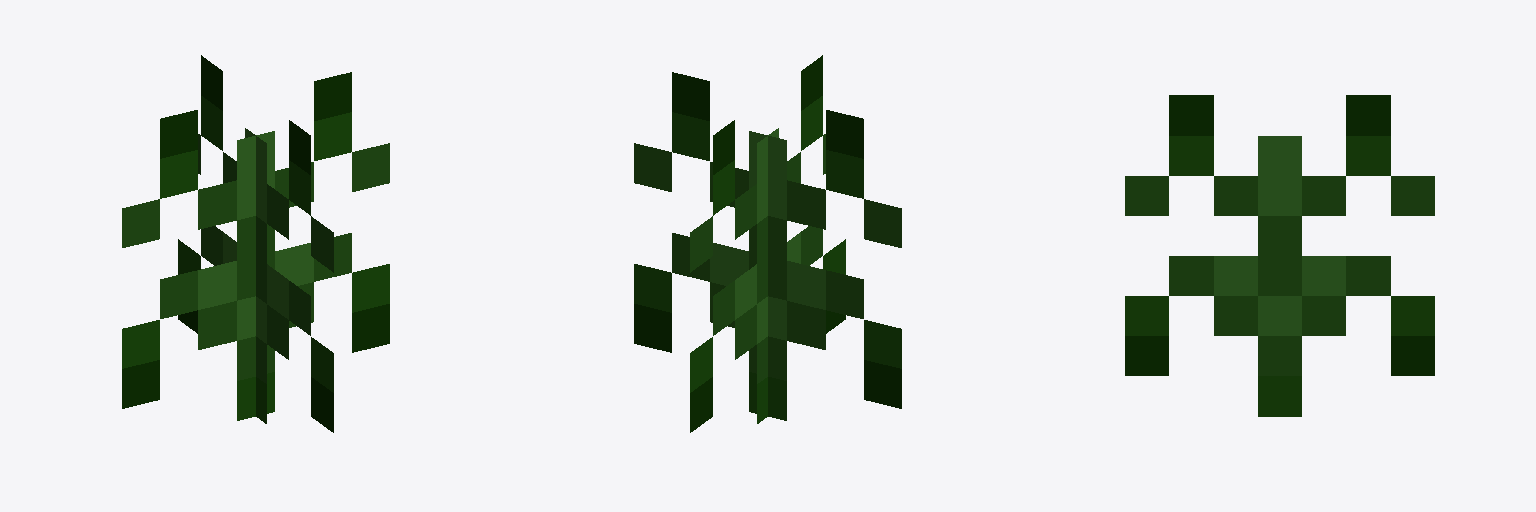
3 views of the same model, side by side, from view 1: azimuth 30°, elevation 25°; view 2: azimuth 150°, elevation 25°; view 3: azimuth 270°, elevation 25° (orthographic).
Visible parts, largest first — view 1: cube; view 2: cube; view 3: cube.
Part boxes in pixels (bbox=[...]): cube: bbox=[122, 55, 389, 432]; cube: bbox=[634, 55, 901, 432]; cube: bbox=[1125, 95, 1434, 416].
Bounding box in the file's own units: 0.4375 × 0.5 × 0.4375.
1 materials, 1 textured.